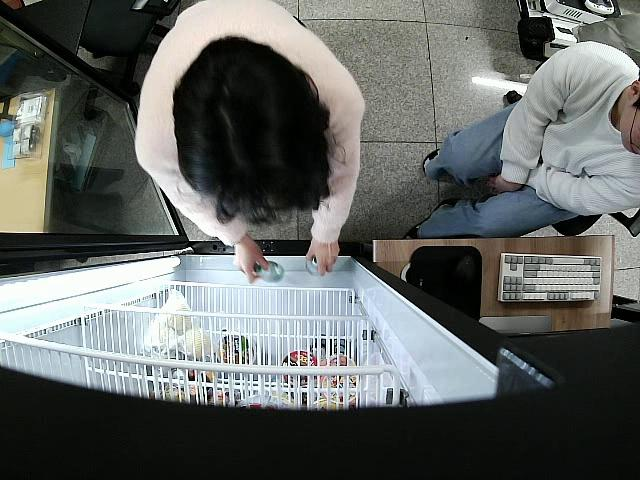00_hand: (233, 244, 266, 282), (306, 243, 340, 276)
18_trevi: (240, 261, 284, 284)
